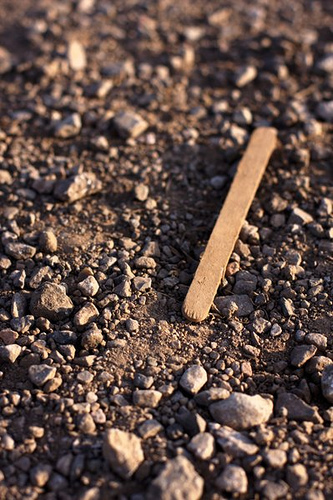litter: (178, 125, 276, 324)
